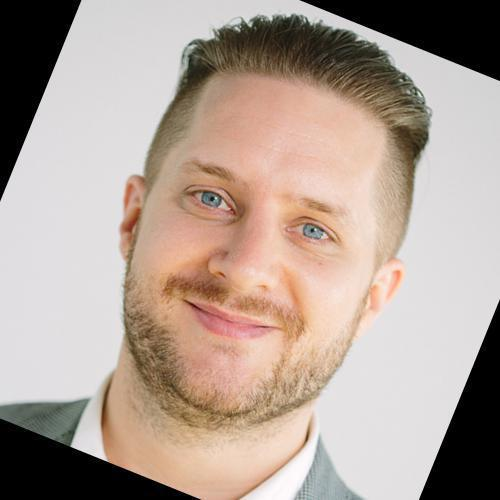Sober: (155, 106, 368, 379)
